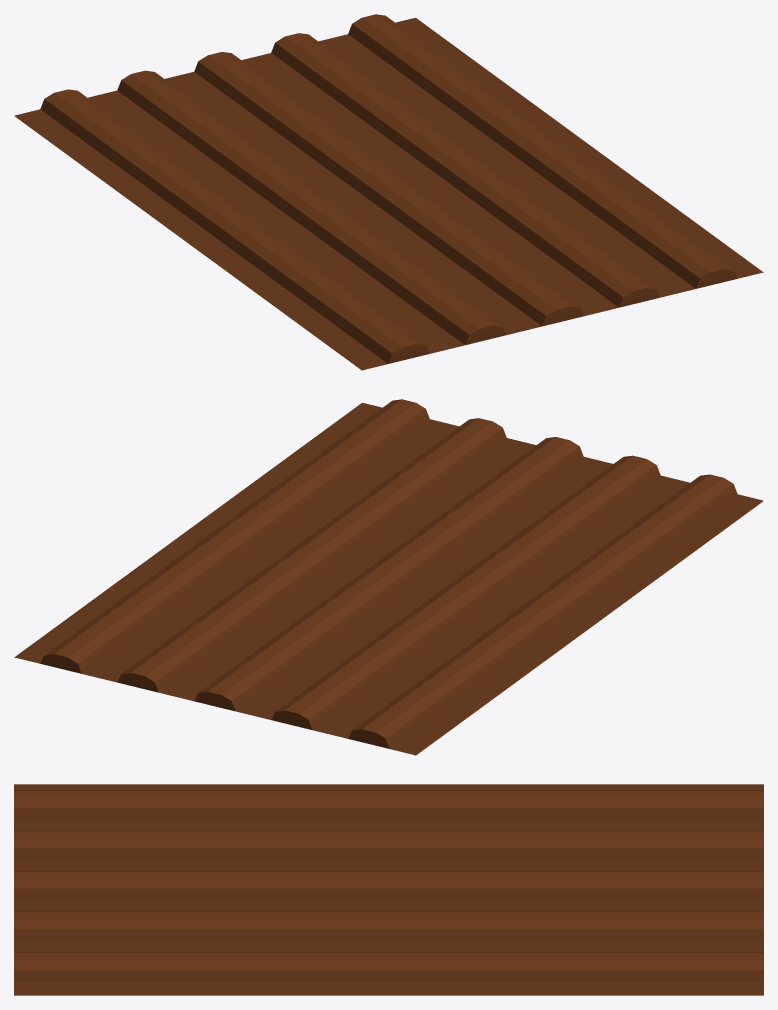
The model's file is Env_Dirt_Rows_Long_Watered_01.obj.
The picture shows the model from 3 angles, top to bottom: view 1: azimuth 30°, elevation 25°; view 2: azimuth 150°, elevation 25°; view 3: azimuth 270°, elevation 25°; orthographic projection. The views are drawn at different scales.
Parts seen in each view (by area): view 1: Env_Dirt_Rows_Long_Watered_01; view 2: Env_Dirt_Rows_Long_Watered_01; view 3: Env_Dirt_Rows_Long_Watered_01.
Part boxes in pixels (left/top/right/bottom): Env_Dirt_Rows_Long_Watered_01: left=14, top=14, right=763, bottom=370; Env_Dirt_Rows_Long_Watered_01: left=14, top=399, right=763, bottom=755; Env_Dirt_Rows_Long_Watered_01: left=14, top=784, right=763, bottom=995.
Bounding box in the file's own units: 4 × 0.1262 × 6.
Materials: 1 (1 with a texture image).
